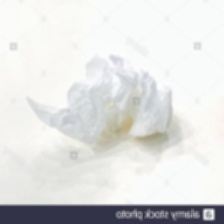tissue: (20, 47, 179, 159)
